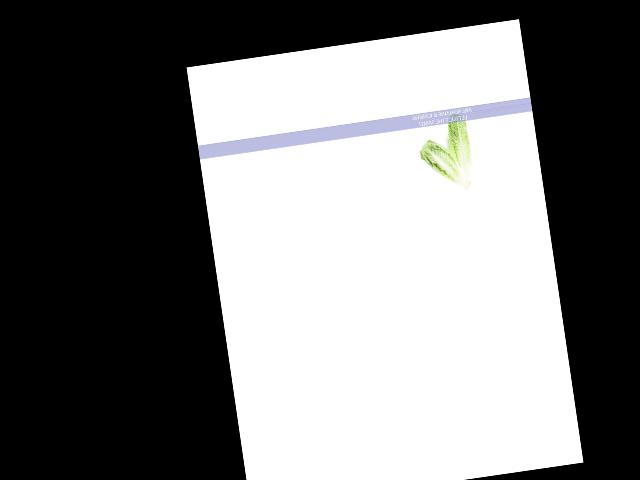lettuce: (418, 130, 473, 195)
